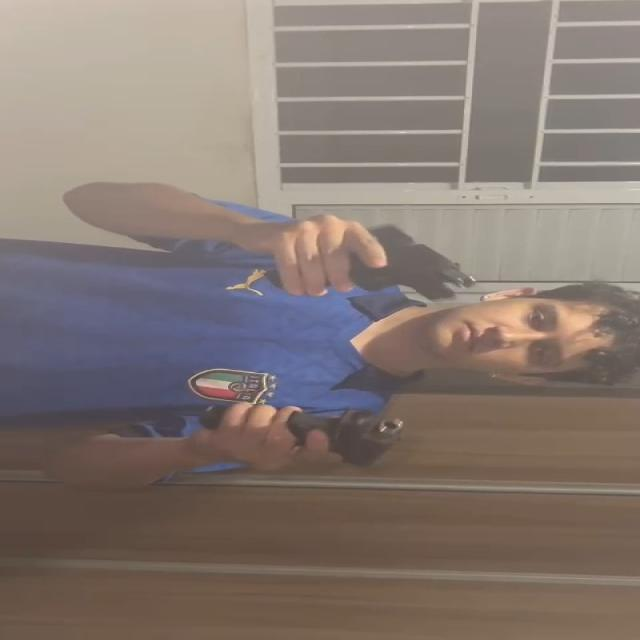gun: (364, 223, 474, 300), (274, 406, 404, 468)
